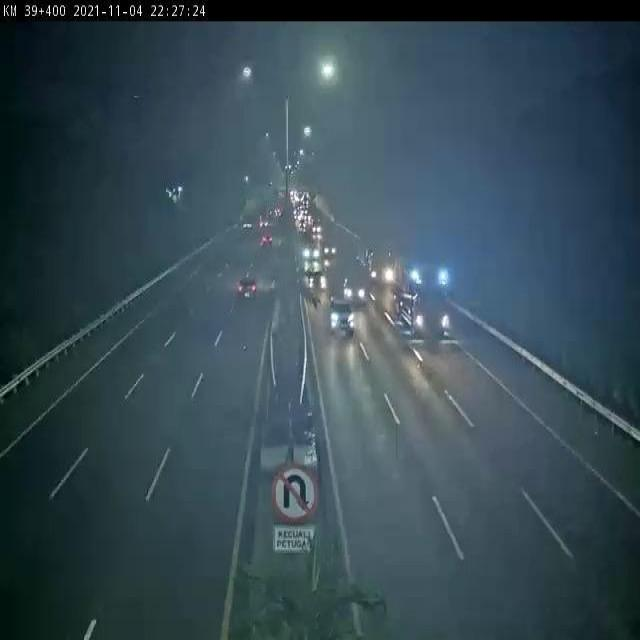car: (328, 292, 358, 333), (234, 276, 260, 303), (341, 274, 365, 302)
mid truck: (307, 267, 327, 292)
truck-l-: (391, 253, 451, 340)
truck-xl-: (354, 246, 392, 286)
